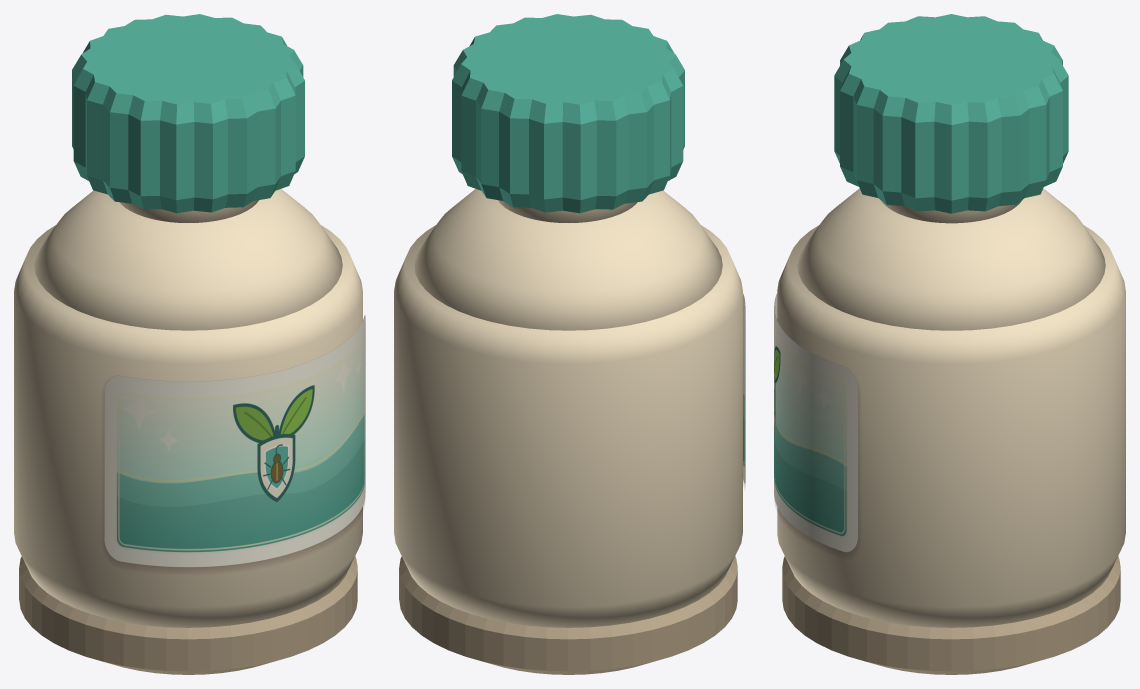
File: LiquidPreparationBottleWeevilControl.glb
The picture shows the model from 3 angles, left to right: view 1: azimuth 30°, elevation 25°; view 2: azimuth 150°, elevation 25°; view 3: azimuth 270°, elevation 25°; orthographic projection.
Visible parts, largest first — view 1: LiquidPreparationBottleWeevilControl_Body, LiquidPreparationBottleWeevilControl_Label, LiquidPreparationBottleWeevilControl_Cap, LiquidPreparationBottleWeevilControl_Shoulder, LiquidPreparationBottleWeevilControl_Base_Rim, LiquidPreparationBottleWeevilControl_Neck; view 2: LiquidPreparationBottleWeevilControl_Body, LiquidPreparationBottleWeevilControl_Cap, LiquidPreparationBottleWeevilControl_Shoulder, LiquidPreparationBottleWeevilControl_Base_Rim, LiquidPreparationBottleWeevilControl_Neck, LiquidPreparationBottleWeevilControl_Label; view 3: LiquidPreparationBottleWeevilControl_Body, LiquidPreparationBottleWeevilControl_Cap, LiquidPreparationBottleWeevilControl_Shoulder, LiquidPreparationBottleWeevilControl_Label, LiquidPreparationBottleWeevilControl_Base_Rim, LiquidPreparationBottleWeevilControl_Neck.
Boxes of the visible parts, box(x1,y1,x2,y2) form: LiquidPreparationBottleWeevilControl_Body: box(14, 225, 362, 627); LiquidPreparationBottleWeevilControl_Label: box(104, 315, 365, 570); LiquidPreparationBottleWeevilControl_Cap: box(72, 14, 304, 213); LiquidPreparationBottleWeevilControl_Shoulder: box(34, 189, 342, 330); LiquidPreparationBottleWeevilControl_Base_Rim: box(19, 556, 357, 674); LiquidPreparationBottleWeevilControl_Neck: box(119, 200, 258, 222); LiquidPreparationBottleWeevilControl_Body: box(394, 225, 742, 627); LiquidPreparationBottleWeevilControl_Cap: box(452, 14, 684, 213); LiquidPreparationBottleWeevilControl_Shoulder: box(414, 189, 722, 330); LiquidPreparationBottleWeevilControl_Base_Rim: box(399, 556, 737, 674); LiquidPreparationBottleWeevilControl_Neck: box(498, 200, 637, 222); LiquidPreparationBottleWeevilControl_Label: box(743, 293, 745, 485); LiquidPreparationBottleWeevilControl_Body: box(777, 225, 1125, 627); LiquidPreparationBottleWeevilControl_Cap: box(834, 14, 1068, 213); LiquidPreparationBottleWeevilControl_Shoulder: box(797, 188, 1105, 330); LiquidPreparationBottleWeevilControl_Label: box(774, 293, 858, 554); LiquidPreparationBottleWeevilControl_Base_Rim: box(782, 556, 1120, 674); LiquidPreparationBottleWeevilControl_Neck: box(881, 200, 1021, 223).
Size of the model in its own units: 0.69 by 1.23 by 0.696.
5 materials, 1 textured.
